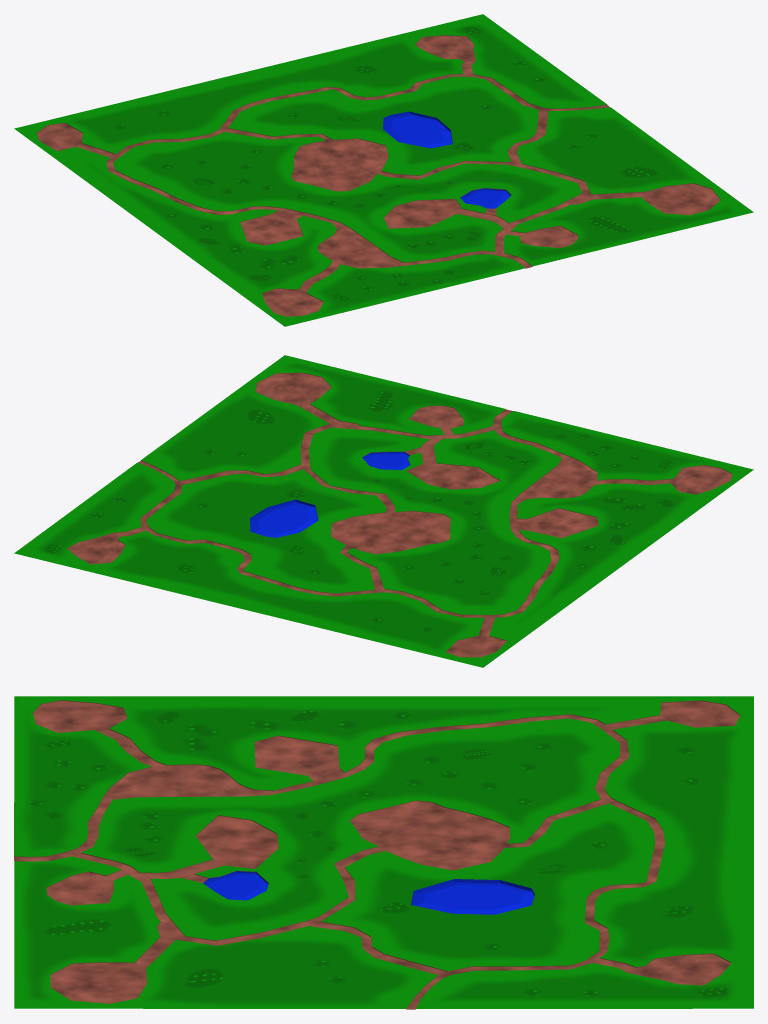
The model's file is Forest.fbx.
3 renders of one model, top to bottom at view 1: azimuth 30°, elevation 25°; view 2: azimuth 150°, elevation 25°; view 3: azimuth 270°, elevation 25°, orthographic. The views are drawn at different scales.
Visible parts, largest first — view 1: Ground, BigLake, SmallLake; view 2: Ground, BigLake, SmallLake; view 3: Ground, BigLake, SmallLake.
Part boxes in pixels (box(x1,y1,x2,y2)): Ground: box(14, 14, 753, 326); BigLake: box(383, 111, 452, 148); SmallLake: box(460, 188, 510, 208); Ground: box(14, 355, 753, 667); BigLake: box(250, 499, 318, 537); SmallLake: box(362, 452, 410, 469); Ground: box(14, 696, 753, 1009); BigLake: box(411, 879, 534, 914); SmallLake: box(203, 870, 268, 900).
Bounding box in the file's own units: 18762 × 641 × 18751.
2 materials, 1 textured.
